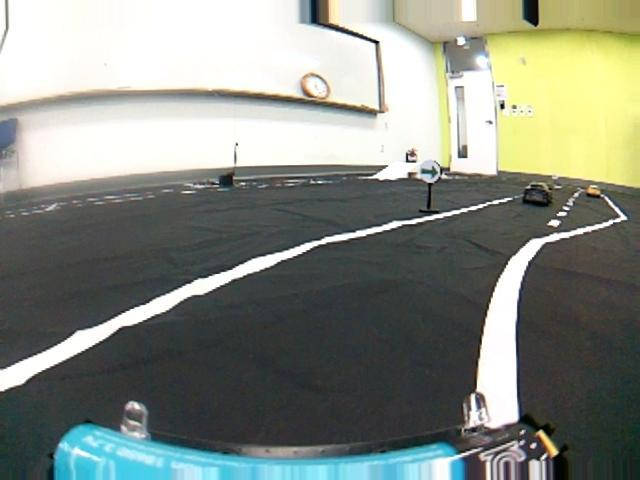car: (523, 180, 556, 206), (587, 185, 600, 198)
right: (5, 217, 640, 480)
sign_right: (418, 159, 440, 182)
